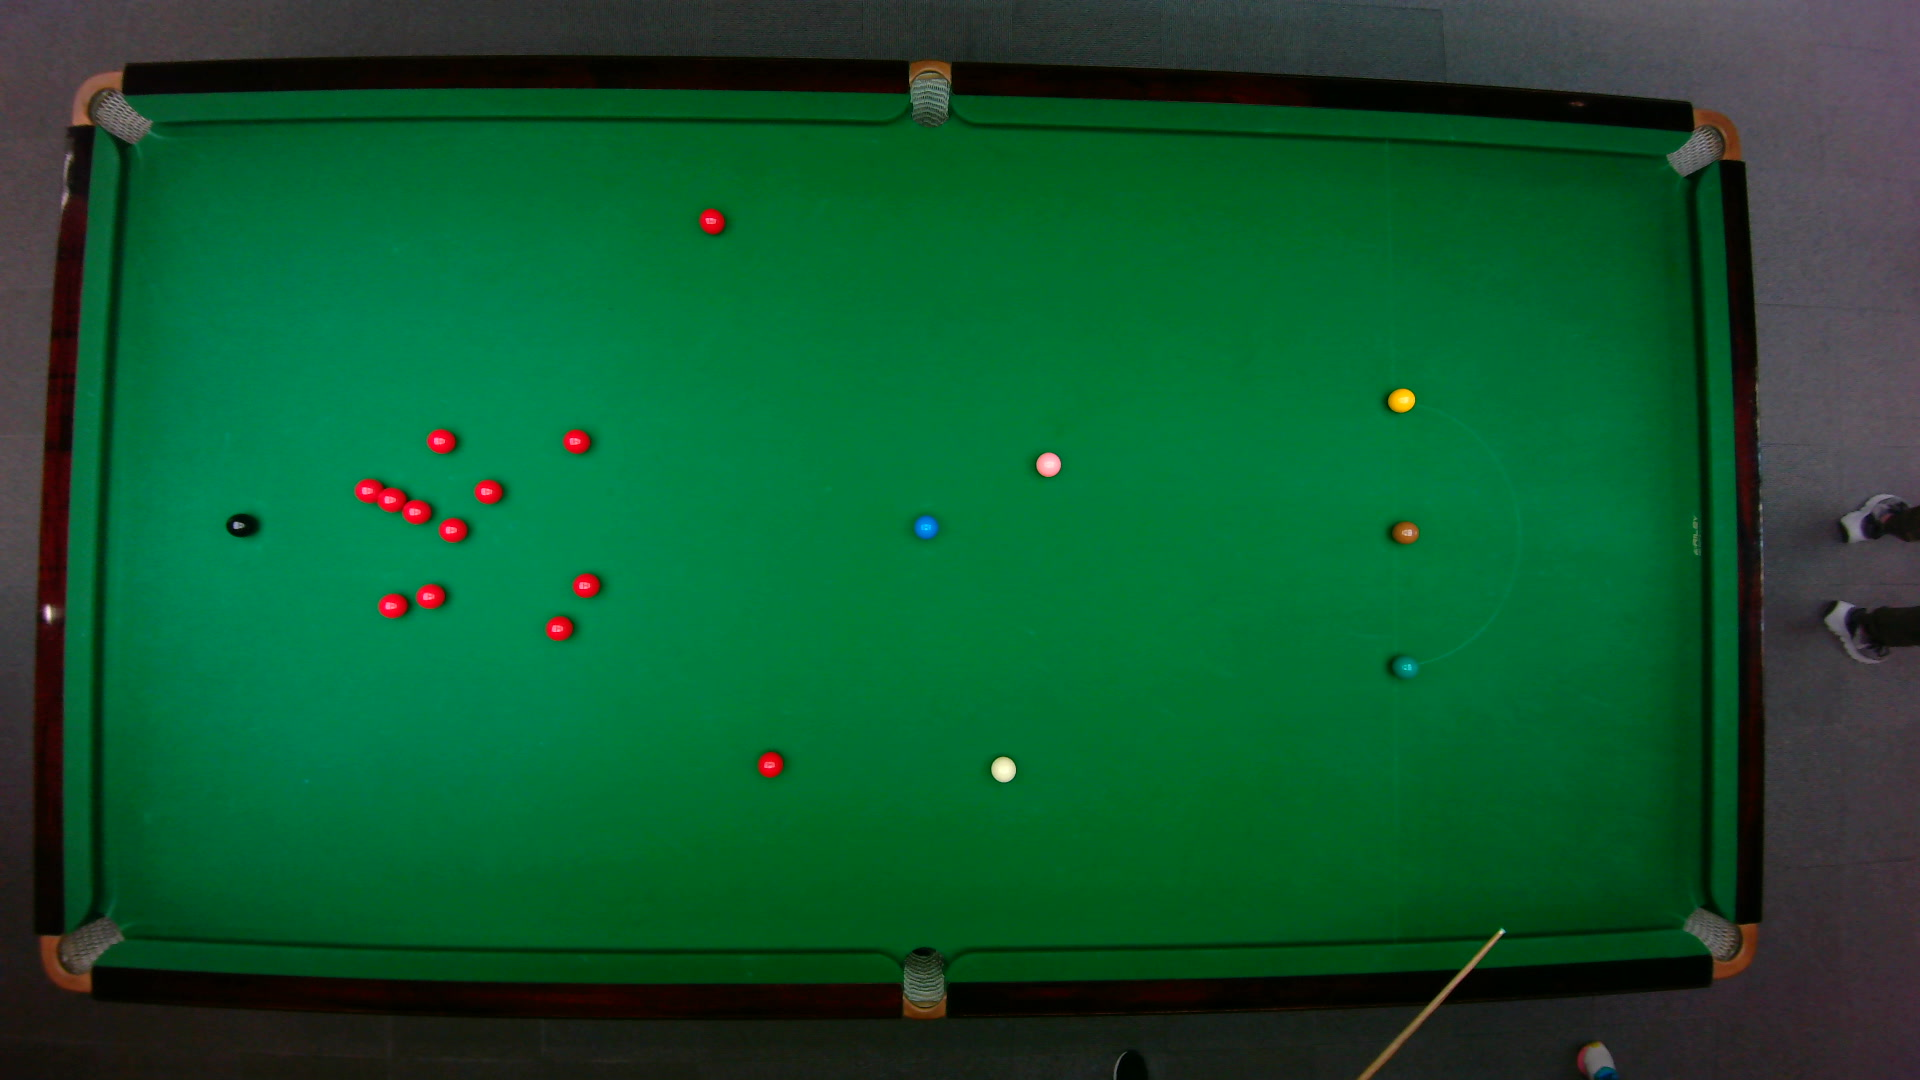bag: (38, 913, 125, 992), (69, 69, 152, 145), (1679, 905, 1756, 978), (1663, 107, 1741, 177), (901, 944, 944, 1021), (909, 57, 949, 128)
black: (224, 512, 256, 537)
blue: (913, 513, 938, 539)
brown: (1390, 520, 1419, 545)
cue: (1356, 926, 1506, 1080)
green: (1389, 651, 1419, 679)
pink: (1034, 448, 1062, 477)
red: (413, 580, 446, 609), (756, 748, 785, 778), (376, 591, 407, 618), (436, 516, 469, 542), (400, 497, 433, 524), (698, 206, 727, 235), (570, 571, 601, 597), (352, 476, 384, 502), (425, 427, 456, 454), (560, 427, 591, 454), (376, 485, 406, 512), (543, 615, 574, 641), (472, 477, 502, 502)
white: (989, 754, 1017, 782)
yellow: (1385, 386, 1416, 413)
zone: (1389, 402, 1519, 669)
